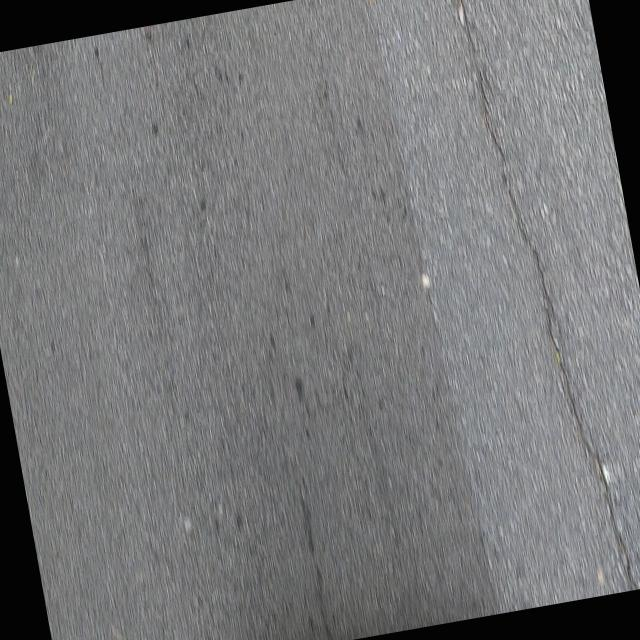Retak-Memanjang: (453, 0, 639, 586)
